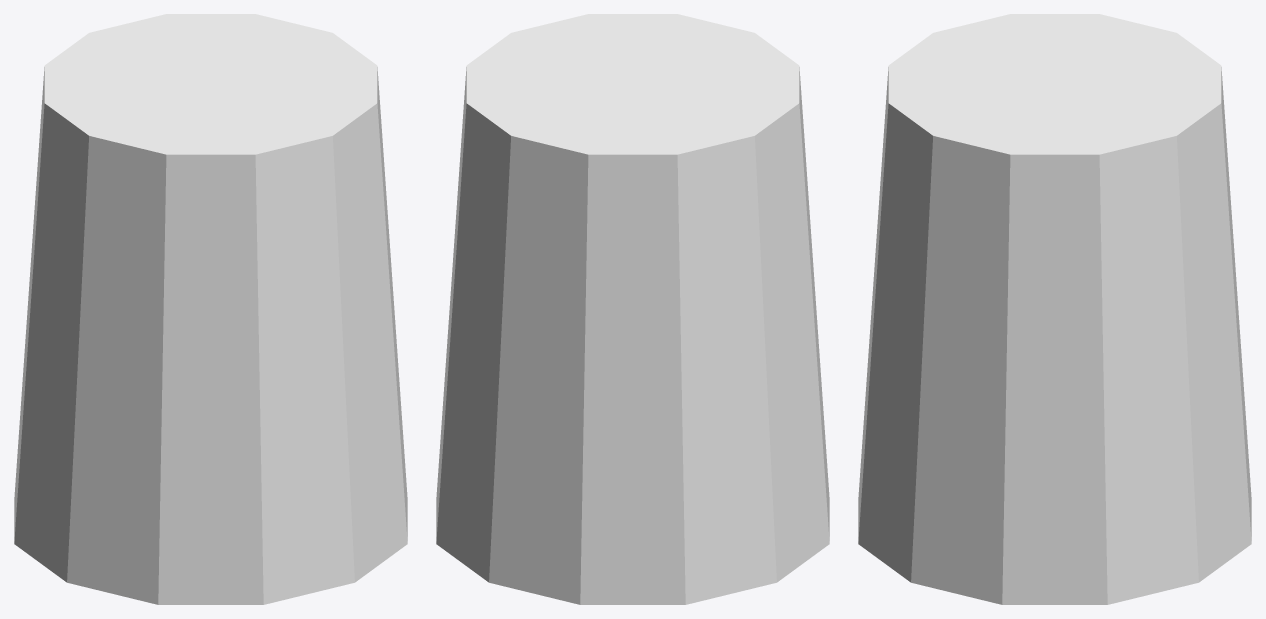
File: beer.fbx
3 renders of one model, left to right at view 1: azimuth 30°, elevation 25°; view 2: azimuth 150°, elevation 25°; view 3: azimuth 270°, elevation 25°, orthographic.
Parts seen in each view (by area): view 1: cylinder; view 2: cylinder; view 3: cylinder.
Boxes of the visible parts, x1,y1,x2,y2 form: cylinder: (14,14,407,604); cylinder: (436,14,829,604); cylinder: (858,14,1251,604).
Size of the model in its own units: 68.75 by 84.38 by 68.75.
1 material, 1 textured.
